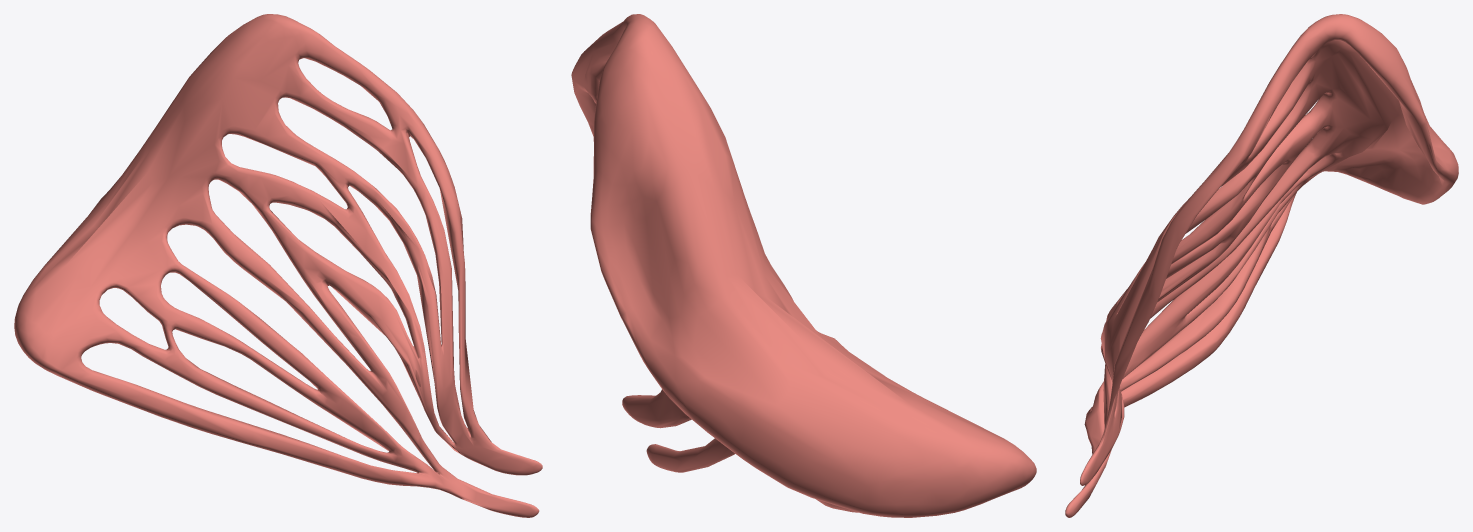
File: bicuspid1.gltf
3 views of the same model, side by side, from view 1: azimuth 30°, elevation 25°; view 2: azimuth 150°, elevation 25°; view 3: azimuth 270°, elevation 25° (orthographic). The views are drawn at different scales.
Parts seen in each view (by area): view 1: Posterior leaflet of left atrioventricular valve.012; view 2: Posterior leaflet of left atrioventricular valve.012; view 3: Posterior leaflet of left atrioventricular valve.012.
Boxes of the visible parts, bbox=[...] form: Posterior leaflet of left atrioventricular valve.012: bbox=[14, 14, 542, 517]; Posterior leaflet of left atrioventricular valve.012: bbox=[571, 14, 1036, 517]; Posterior leaflet of left atrioventricular valve.012: bbox=[1065, 14, 1458, 517].
Bounding box in the file's own units: 0.9715 × 1 × 0.8108.
